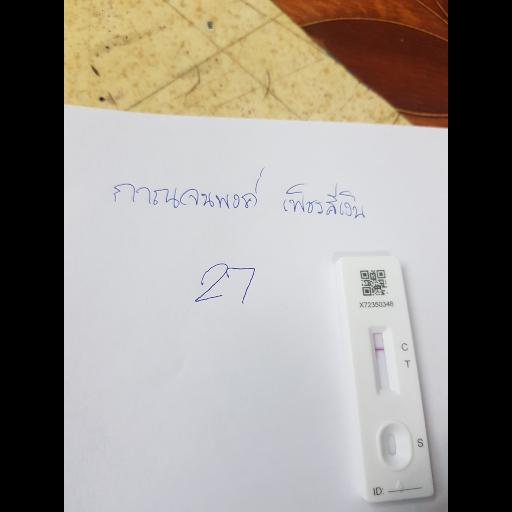Neg: (339, 258, 436, 502)
